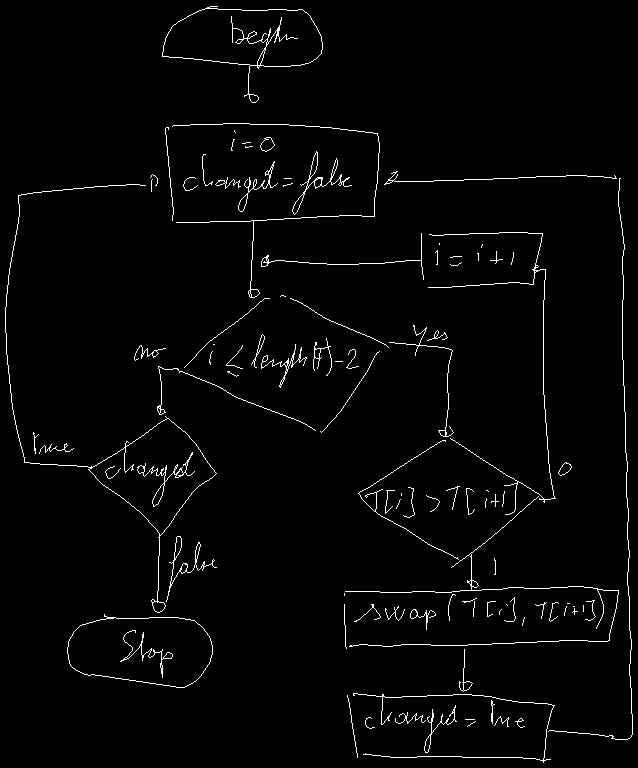arrow: (384, 171, 632, 739), (5, 174, 157, 467), (389, 342, 453, 436), (151, 535, 165, 612), (157, 366, 177, 414), (248, 220, 259, 297), (263, 260, 421, 264), (459, 649, 472, 691), (244, 66, 258, 102), (467, 554, 478, 589), (261, 255, 268, 266)
decision: (178, 295, 388, 432), (358, 438, 544, 567), (88, 416, 216, 535)
process: (165, 123, 379, 222), (344, 586, 618, 648), (347, 693, 554, 762), (421, 232, 542, 287), (532, 265, 555, 499)
terminator: (67, 614, 212, 687), (162, 6, 322, 66)
text: (183, 130, 351, 214), (354, 588, 603, 629), (365, 694, 524, 752), (209, 334, 358, 387), (105, 441, 194, 506), (365, 482, 517, 517), (231, 16, 297, 68), (166, 536, 216, 601), (120, 630, 172, 677), (435, 243, 513, 265), (413, 325, 447, 355), (33, 432, 73, 453), (134, 345, 165, 360), (558, 462, 571, 475), (493, 558, 496, 574)
